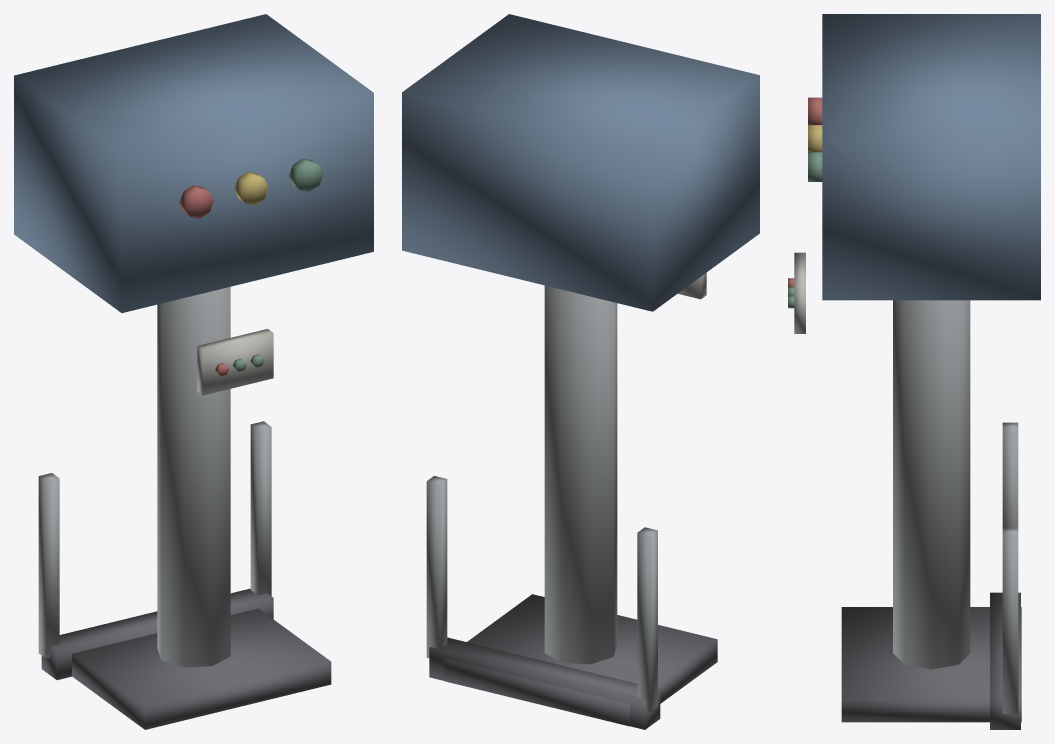
Rendered from pedestal_machine_control__reinforced.glb.
3 renders of one model, left to right at view 1: azimuth 30°, elevation 25°; view 2: azimuth 150°, elevation 25°; view 3: azimuth 270°, elevation 25°, orthographic. The views are drawn at different scales.
Parts seen in each view (by area): view 1: world; view 2: world; view 3: world.
Part boxes in pixels (box(x1,y1,x2,y2)): world: box(14, 14, 373, 729); world: box(402, 14, 759, 729); world: box(788, 14, 1040, 729).
Size of the model in its own units: 0.4738 by 1.06 by 0.4053.
